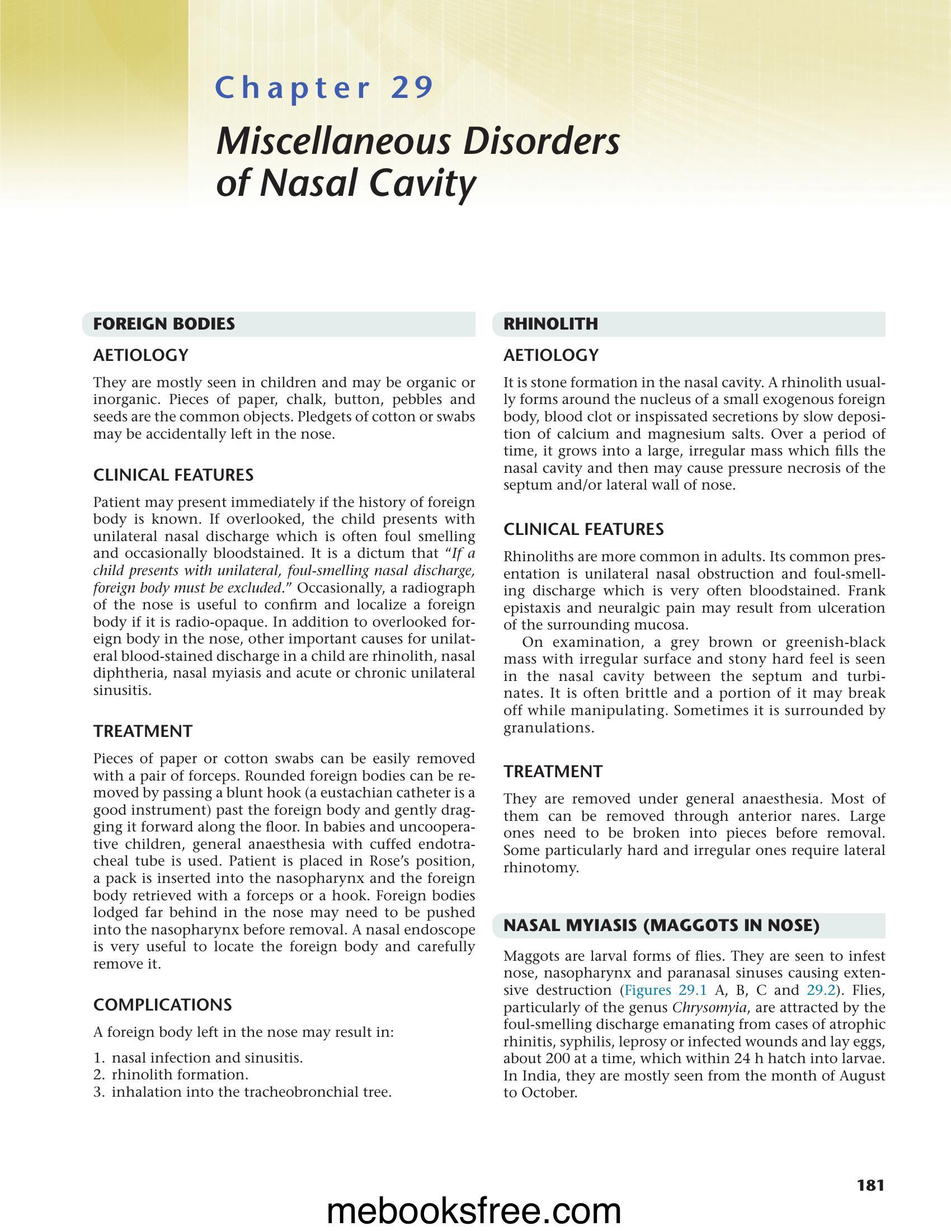chapter-heading: (215, 122, 620, 208)
list: (92, 1051, 392, 1099)
section-heading: (503, 917, 820, 936), (93, 316, 236, 330), (503, 317, 598, 331)
sub-section-heading: (93, 467, 254, 481), (503, 522, 664, 536), (93, 997, 233, 1011), (92, 724, 194, 738), (503, 764, 604, 778), (92, 348, 189, 362), (502, 348, 599, 362)
text: (92, 751, 476, 971), (92, 495, 476, 697), (502, 549, 886, 738), (503, 948, 886, 1100), (502, 375, 887, 495), (502, 791, 887, 877), (91, 375, 476, 444), (92, 1024, 394, 1042)
